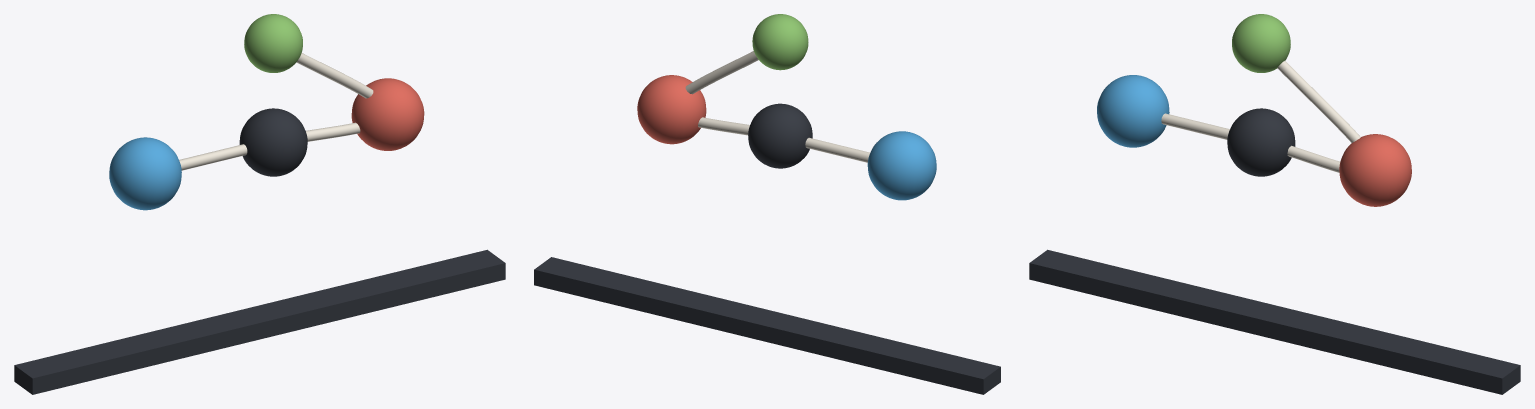
File: chem-biolink-amino-acid.glb
3 views of the same model, side by side, from view 1: azimuth 30°, elevation 25°; view 2: azimuth 150°, elevation 25°; view 3: azimuth 330°, elevation 25° (orthographic). The views are drawn at different scales.
Visible parts, largest first — view 1: biochemistry-bench, amino-group-nitrogen-end, carboxyl-group-acid-end, central-carbon-backbone, side-chain-variable-r-group, amino-acid-backbone-bonds; view 2: biochemistry-bench, amino-group-nitrogen-end, carboxyl-group-acid-end, central-carbon-backbone, side-chain-variable-r-group, amino-acid-backbone-bonds; view 3: biochemistry-bench, carboxyl-group-acid-end, amino-group-nitrogen-end, central-carbon-backbone, side-chain-variable-r-group, amino-acid-backbone-bonds.
Boxes of the visible parts, <box> form: biochemistry-bench: <box>14,249,505,394</box>; amino-group-nitrogen-end: <box>109,137,181,210</box>; carboxyl-group-acid-end: <box>351,78,424,150</box>; central-carbon-backbone: <box>239,108,307,176</box>; side-chain-variable-r-group: <box>244,14,302,72</box>; amino-acid-backbone-bonds: <box>179,53,373,170</box>; biochemistry-bench: <box>534,257,1000,394</box>; amino-group-nitrogen-end: <box>867,131,936,200</box>; carboxyl-group-acid-end: <box>637,75,706,144</box>; central-carbon-backbone: <box>748,103,812,168</box>; side-chain-variable-r-group: <box>752,14,808,70</box>; amino-acid-backbone-bonds: <box>685,51,869,162</box>; biochemistry-bench: <box>1029,249,1520,394</box>; carboxyl-group-acid-end: <box>1339,134,1411,206</box>; amino-group-nitrogen-end: <box>1097,75,1169,147</box>; central-carbon-backbone: <box>1227,108,1295,176</box>; side-chain-variable-r-group: <box>1232,14,1290,72</box>; amino-acid-backbone-bonds: <box>1161,61,1360,172</box>.
Size of what is drawn, in the model's own units: 2.4 by 1.57 by 0.36.
